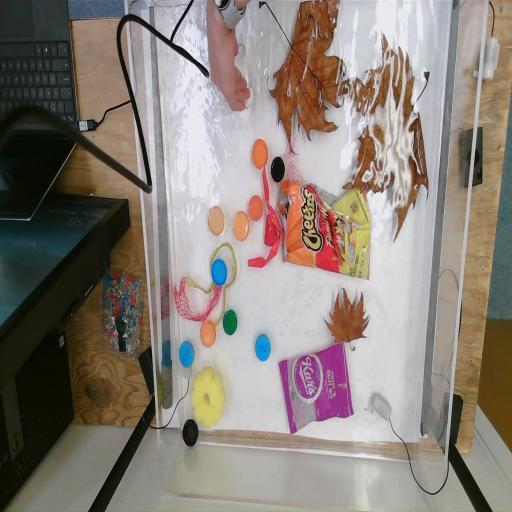Bottle Cap: (204, 205, 226, 236), (232, 210, 250, 242), (251, 138, 268, 168), (182, 418, 200, 446), (211, 258, 228, 286), (248, 194, 264, 222), (200, 320, 216, 348), (178, 340, 194, 368), (254, 334, 270, 361), (222, 310, 238, 336), (270, 156, 285, 182)
Cone Cap: (264, 212, 278, 246)
Leaf: (354, 30, 430, 240), (258, 1, 351, 154), (326, 286, 368, 352)
Netting: (170, 281, 222, 322), (281, 144, 308, 185)
Plastic Bag: (279, 178, 373, 280), (278, 345, 355, 436)
Plastic Strand: (182, 243, 238, 323), (248, 170, 282, 270)
Sponge: (193, 365, 226, 432)
